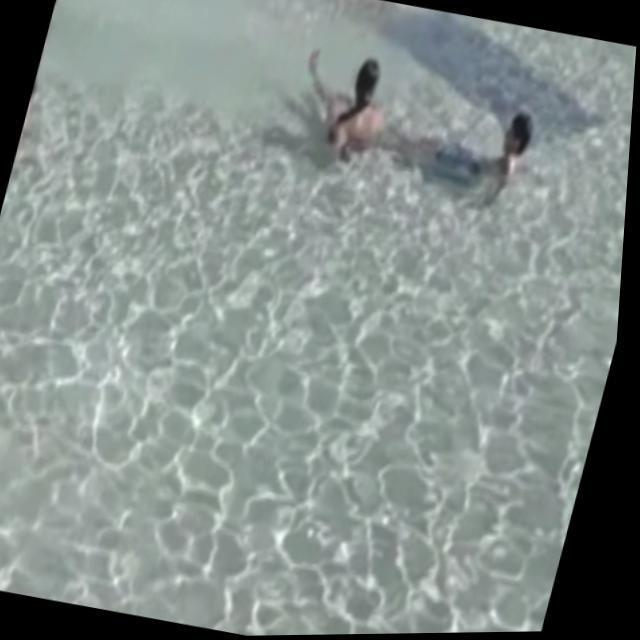swimming: (401, 78, 557, 213), (299, 40, 401, 164)
